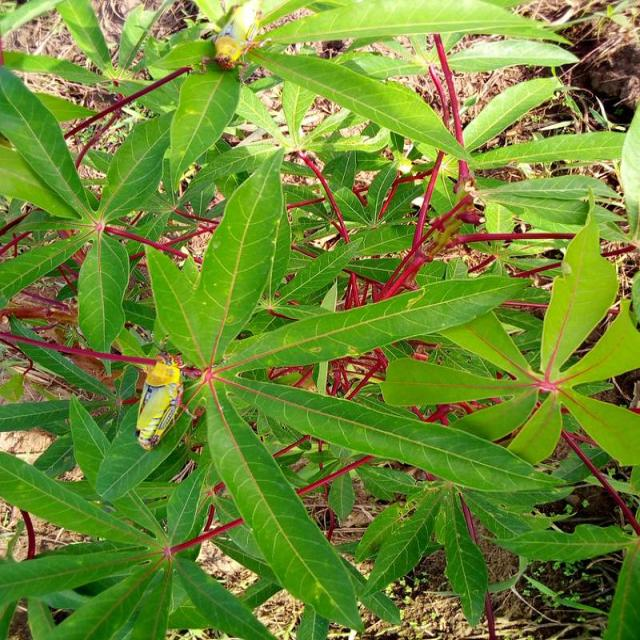cassava leaf: (0, 1, 638, 637), (144, 144, 290, 370)
